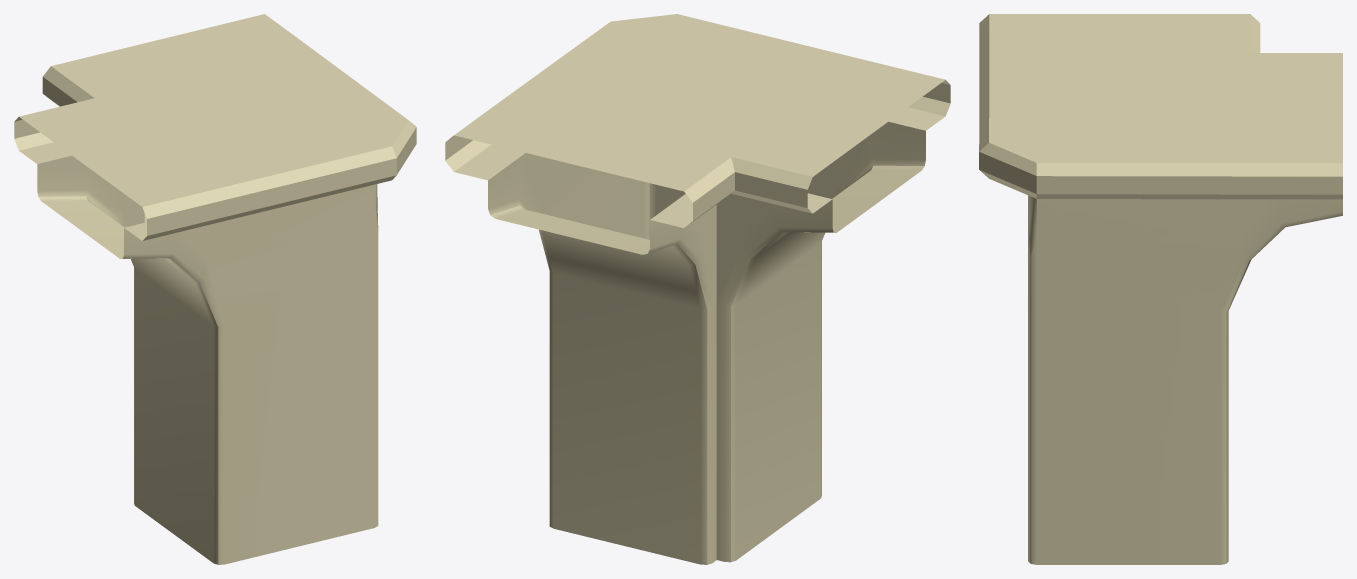
Rendered from Barrière_Coin.fbx.
The picture shows the model from 3 angles, left to right: view 1: azimuth 30°, elevation 25°; view 2: azimuth 150°, elevation 25°; view 3: azimuth 270°, elevation 25°; orthographic projection. The views are drawn at different scales.
Parts seen in each view (by area): view 1: polySurface3; view 2: polySurface3; view 3: polySurface3.
Part boxes in pixels (x1,y1,x2,y2): polySurface3: [14, 14, 416, 564]; polySurface3: [445, 14, 950, 564]; polySurface3: [979, 14, 1342, 564].
Bounding box in the file's own units: 11.47 × 14.56 × 11.48.
